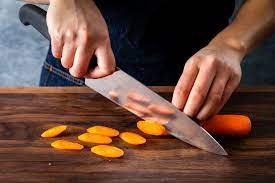knife: (17, 2, 229, 158)
